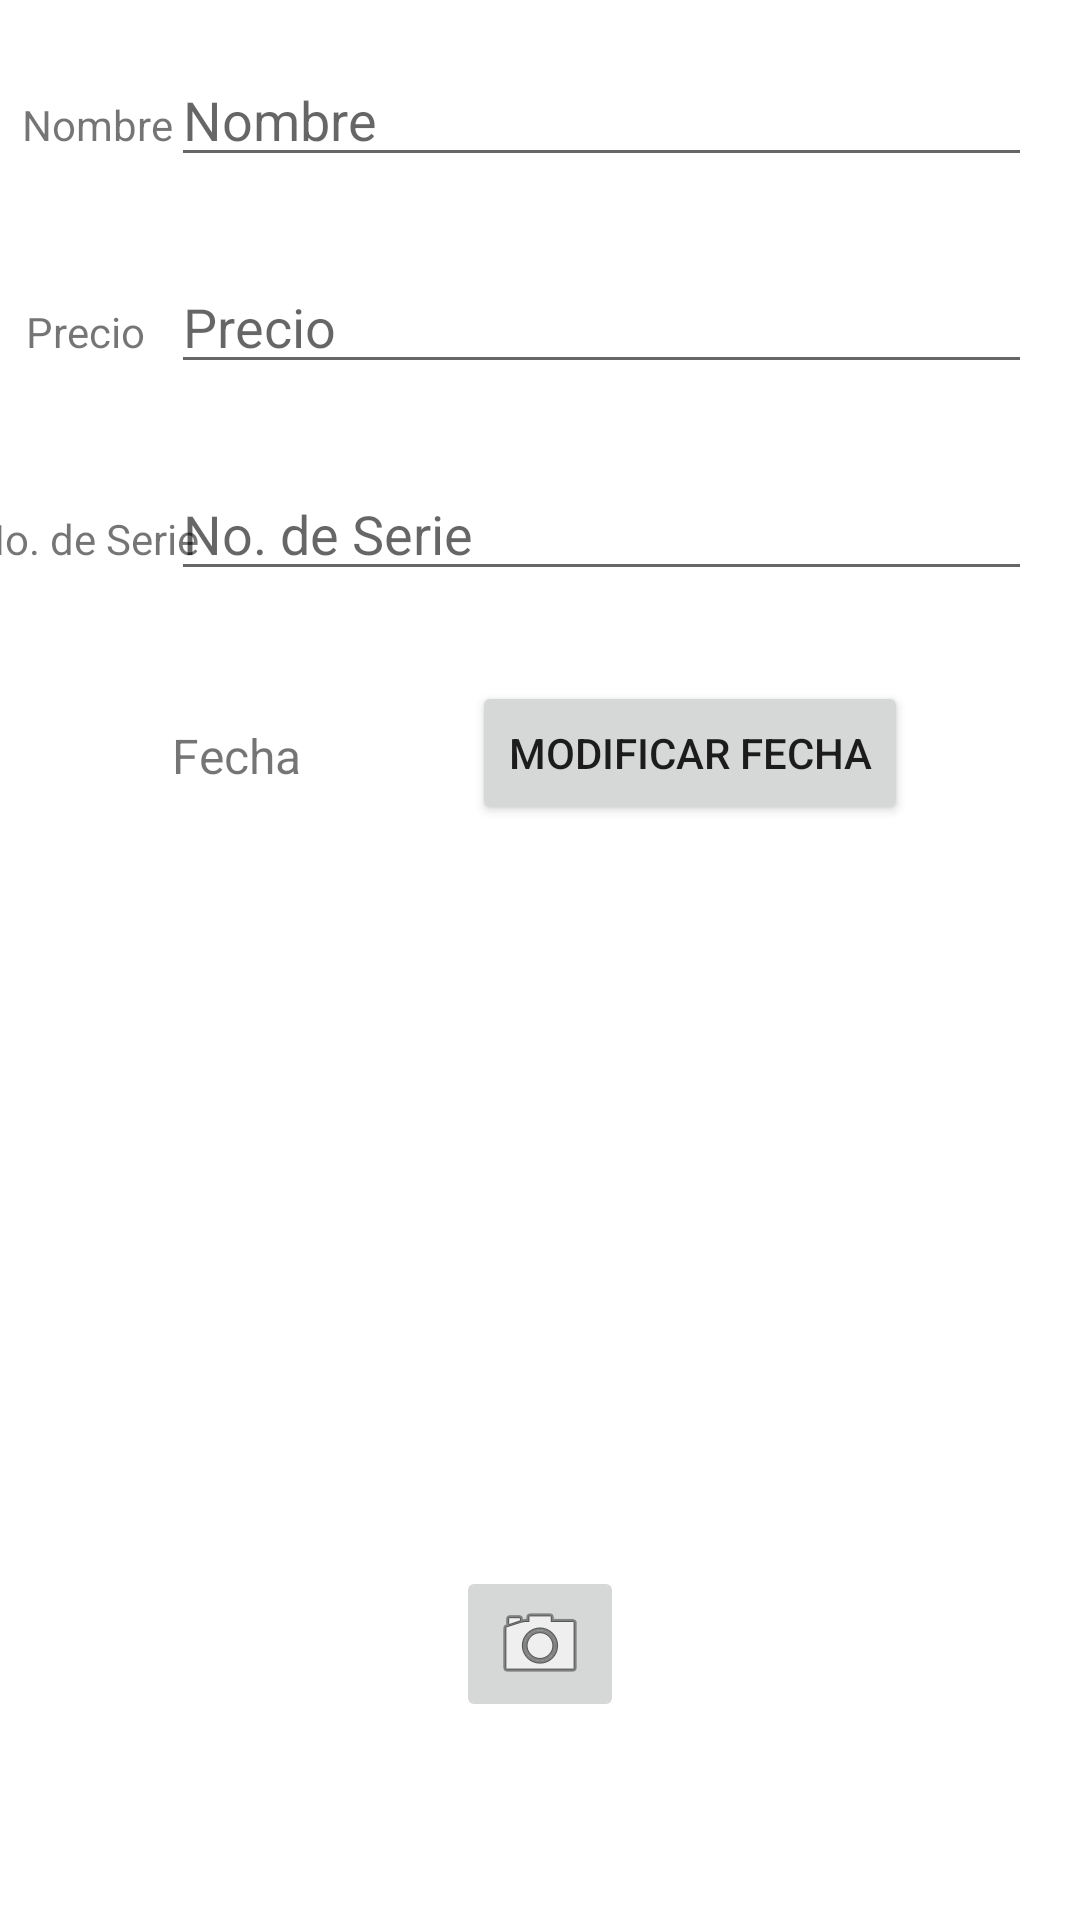

Locate icon controls on the screen. Image size 1080w x 1920h, boxes as (x1, y1, x2, y2).
Botón cámara: (468, 1584, 612, 1704)
